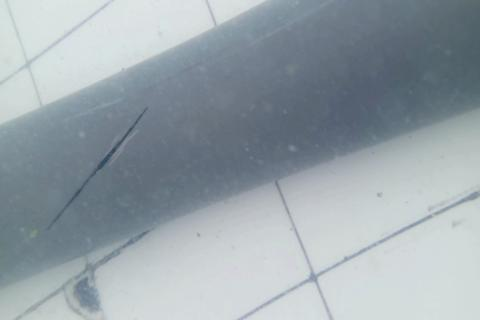keretakan: (46, 107, 148, 232)
